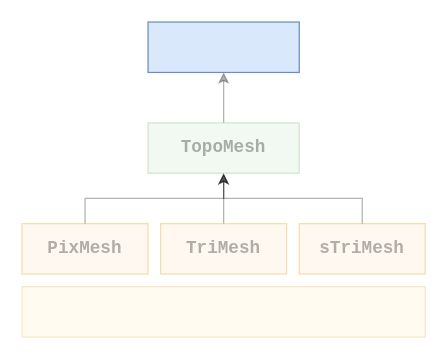
The diagram is 447 pixels wide and 359 high, and some of its shapes have lost their labels. The centre of each missing label's shape, as x and y in pixels:
CommonMesh: the point at 223,311
SurfMesh: the point at 223,46
